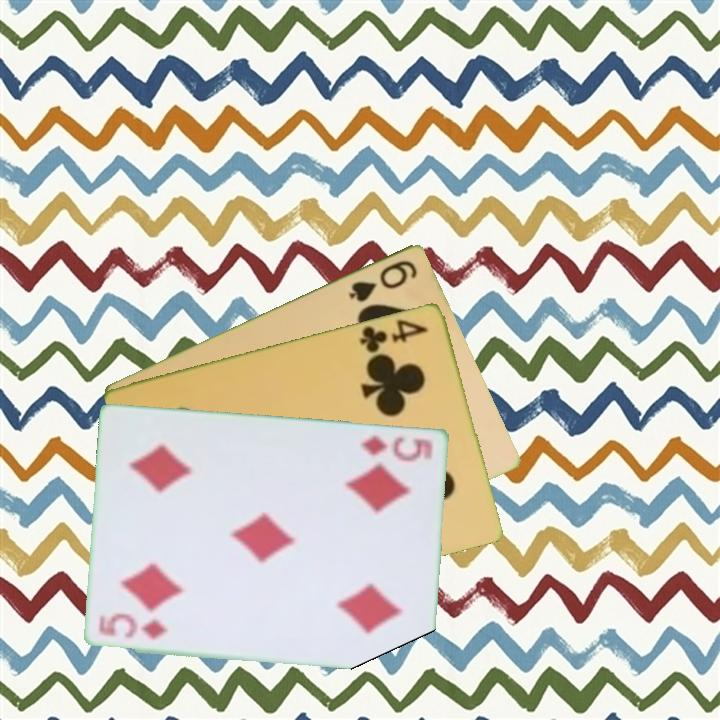4c: (356, 315, 431, 356)
5d: (357, 431, 437, 463), (95, 612, 171, 642)
6s: (345, 256, 421, 305)
